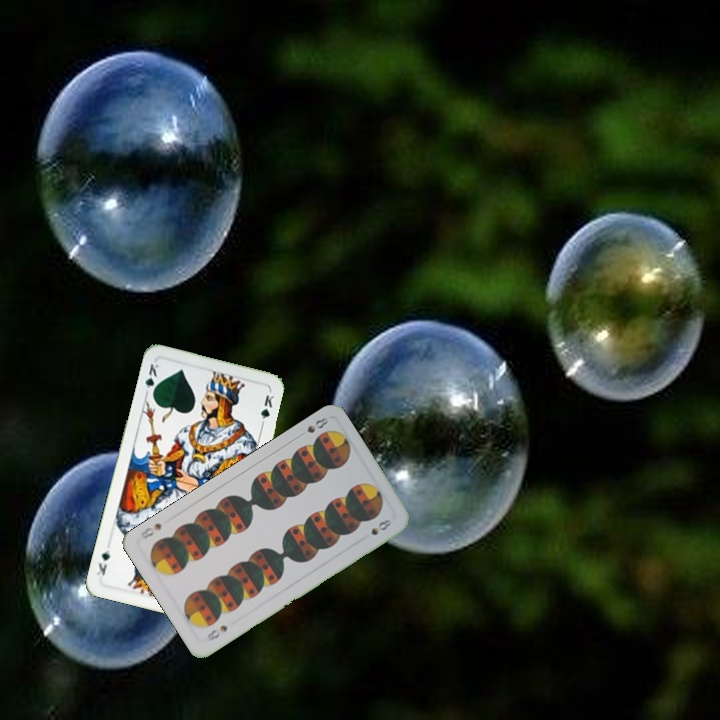GK: (141, 359, 161, 399)
S8: (294, 413, 331, 440), (203, 621, 230, 644)
